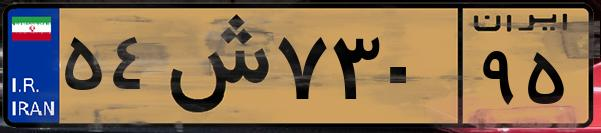0: (385, 28, 445, 110)
3: (330, 28, 385, 110)
4: (110, 28, 158, 98)
5: (57, 26, 110, 100), (525, 38, 570, 115)
7: (270, 28, 330, 110)
9: (475, 38, 525, 113)
ش: (158, 12, 270, 120)
